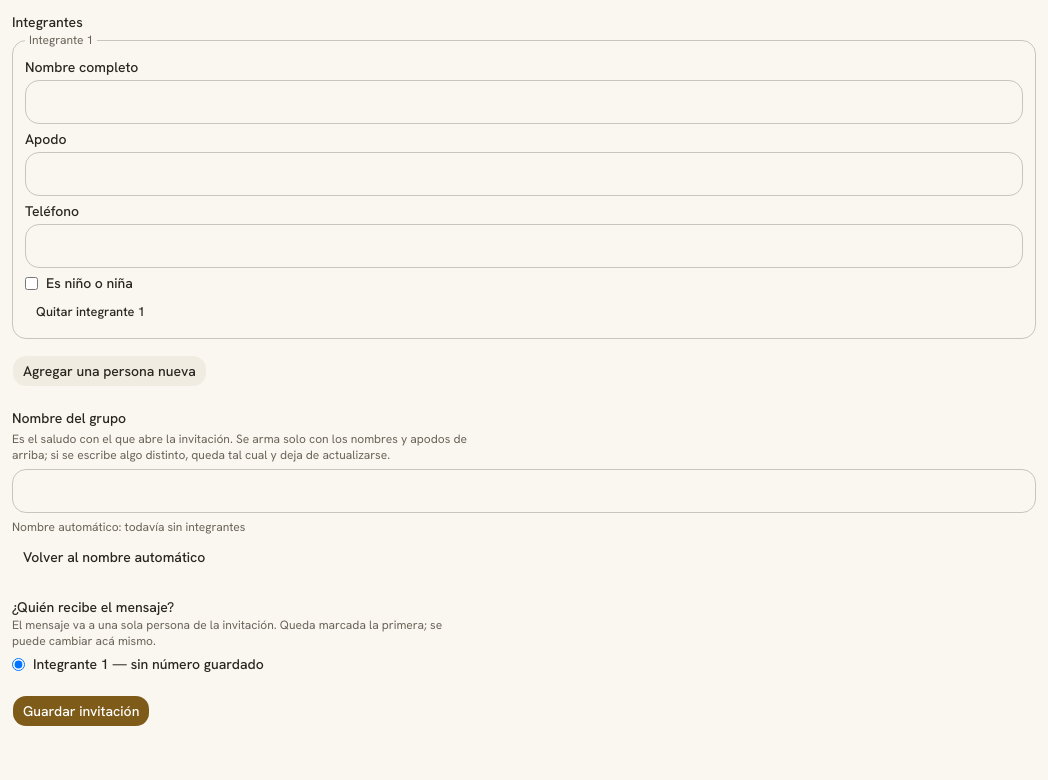
InvitationForm's last-member refusal › still lets the creation form empty itself, because there is nothing to delete
This screenshot has width=1048, height=780.
Step 1. Click the button "Quitar integrante 1" → {"x": 90, "y": 312}, box [25,298,156,326]
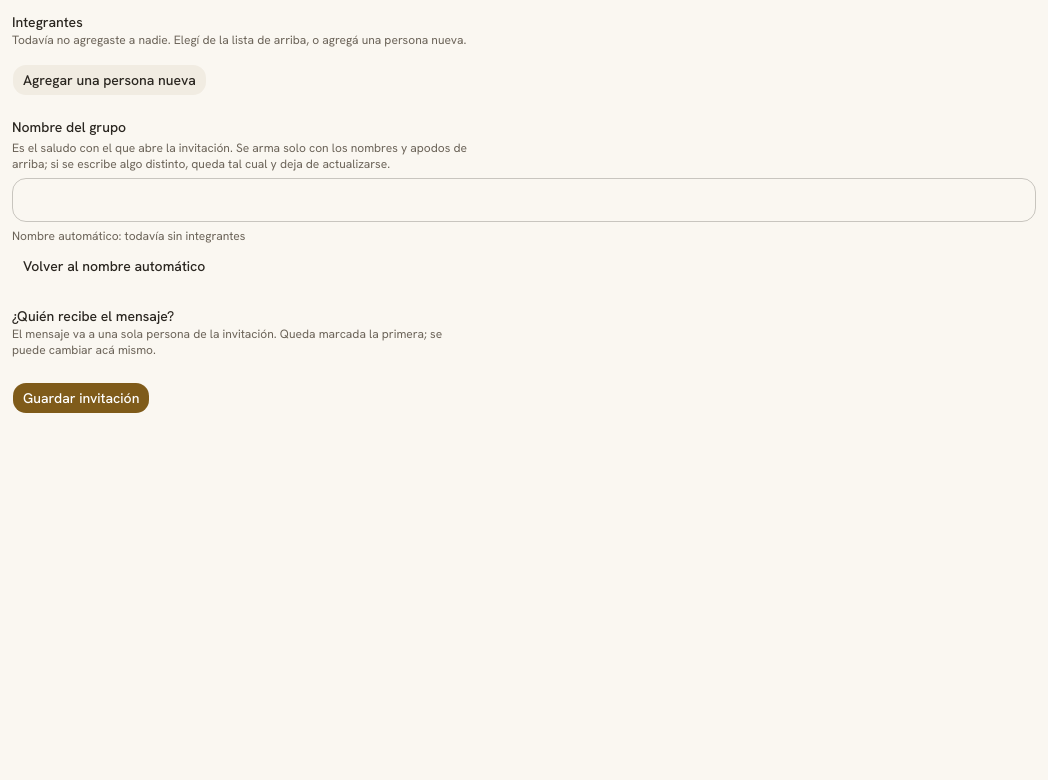
expect the text "Integrante 1" is gone: met
